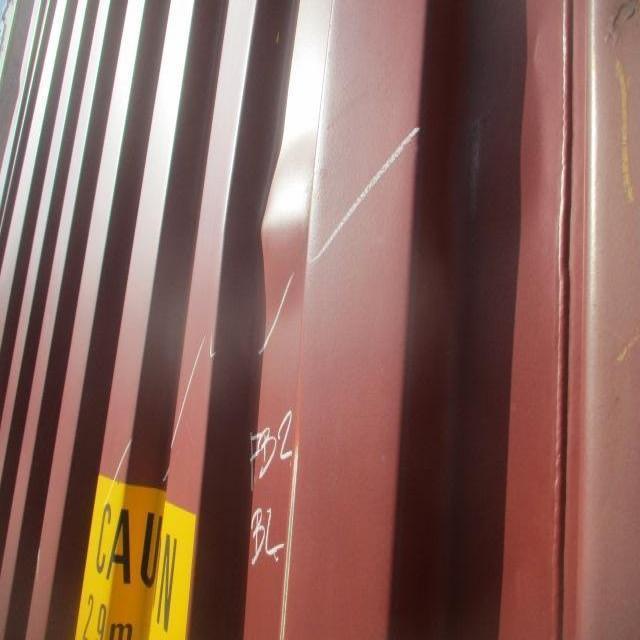Minor-Dent: (212, 95, 325, 339)
